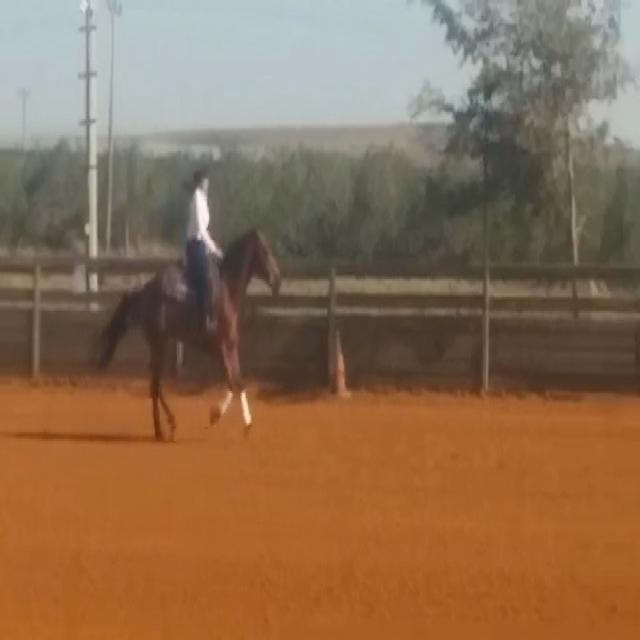horse: (92, 222, 283, 443)
